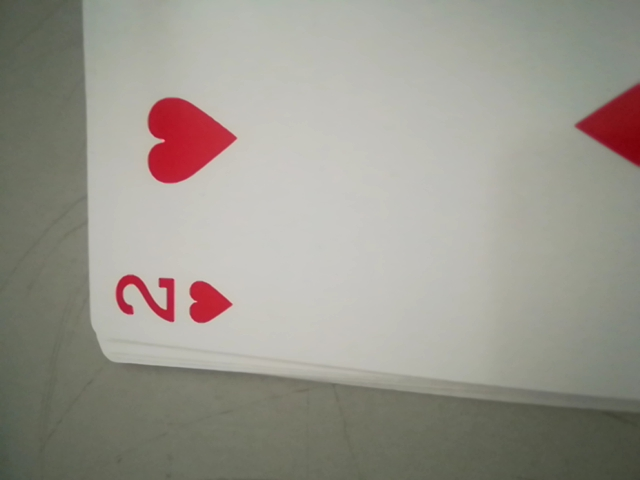hx 2: (110, 263, 252, 338)
